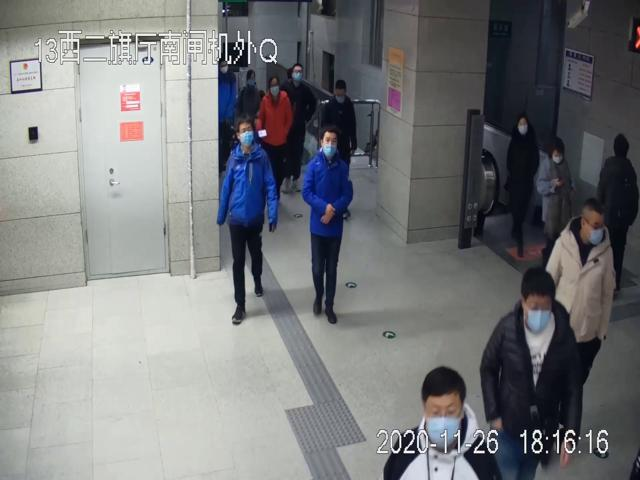person: (481, 266, 583, 477), (548, 198, 618, 457), (216, 117, 279, 323), (301, 126, 353, 324), (504, 112, 541, 256), (257, 74, 293, 205), (537, 135, 572, 252)
